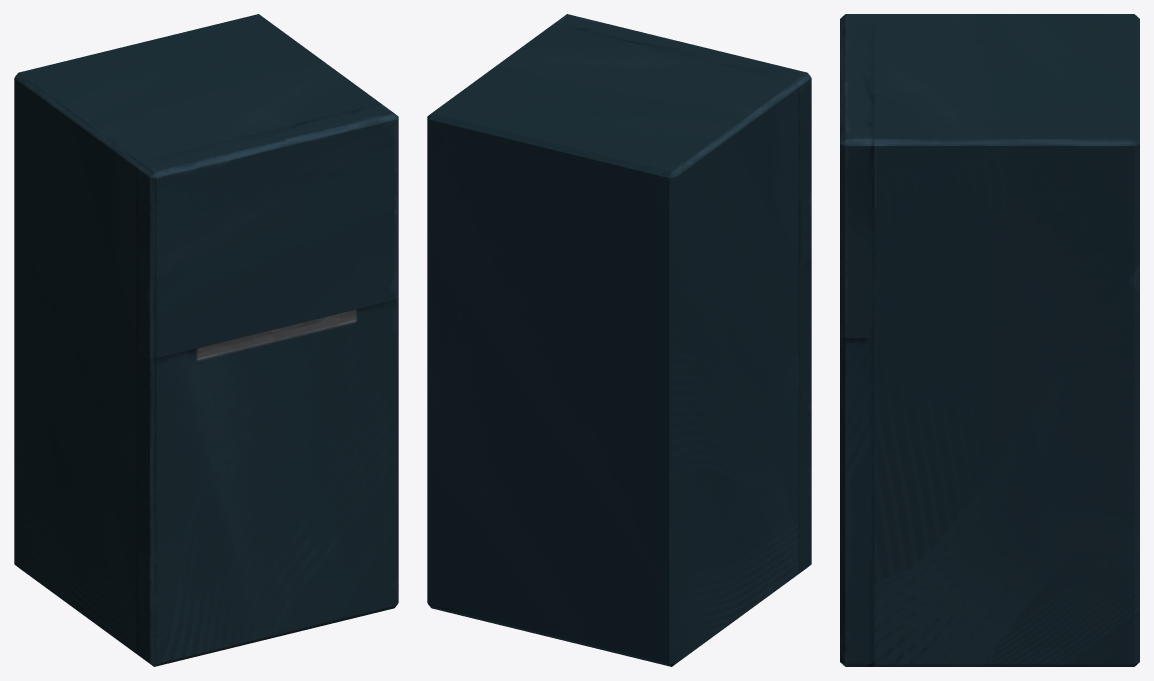
The model's file is MESH_Fridge_2_doors_v1.glb.
3 views of the same model, side by side, from view 1: azimuth 30°, elevation 25°; view 2: azimuth 150°, elevation 25°; view 3: azimuth 270°, elevation 25° (orthographic). The views are drawn at different scales.
Parts seen in each view (by area): view 1: Plane.008, Cube.018, Cube.020; view 2: Plane.008, Cube.020, Cube.018; view 3: Plane.008, Cube.018, Cube.020.
Boxes of the visible parts, box(x1,y1,x2,y2) form: Plane.008: box(14, 14, 380, 655); Cube.018: box(136, 297, 398, 666); Cube.020: box(136, 103, 398, 357); Plane.008: box(427, 24, 798, 666); Cube.020: box(554, 14, 811, 267); Cube.018: box(797, 258, 811, 574); Plane.008: box(874, 14, 1139, 666); Cube.018: box(840, 336, 874, 666); Cube.020: box(840, 14, 874, 337).
Size of the model in its own units: 0.92 by 1.75 by 0.9.
1 material, 1 textured.
